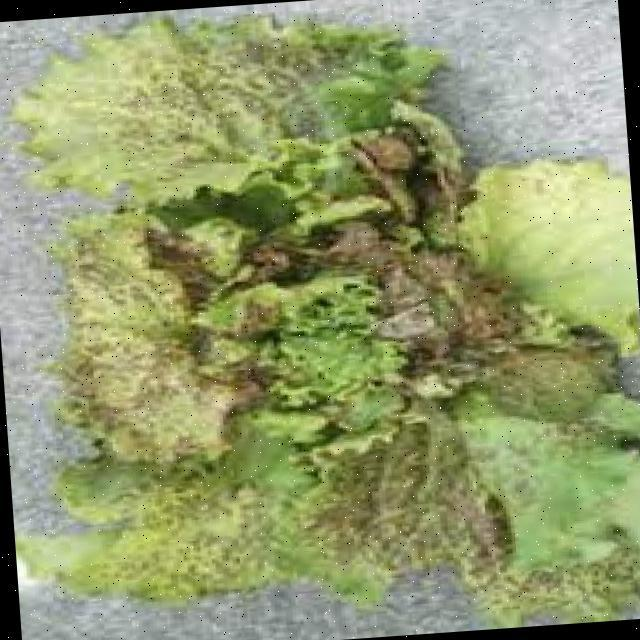Lettuce Mosaic Virus: (69, 51, 482, 594)
